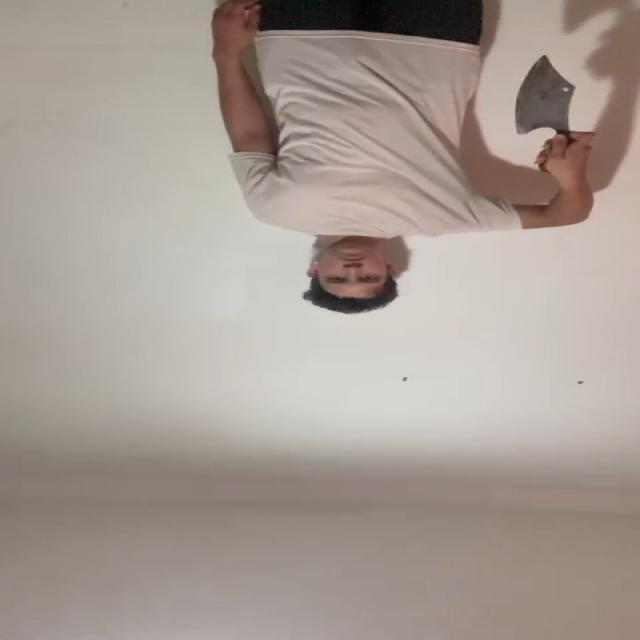knife: (511, 54, 576, 136)
